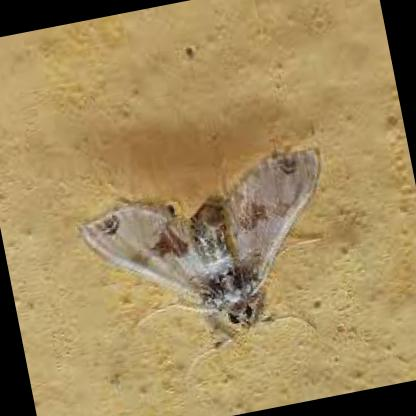leucinodes: (74, 146, 319, 327)
